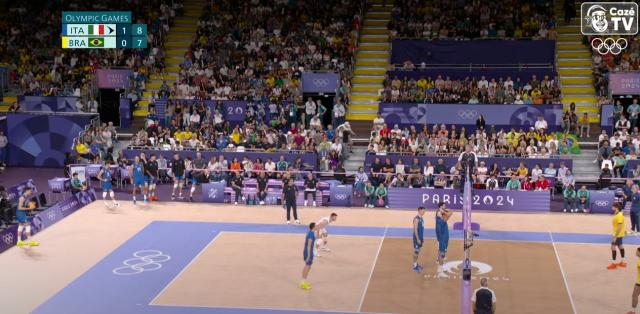Libero: (316, 212, 336, 256)
bola: (28, 200, 36, 212)
